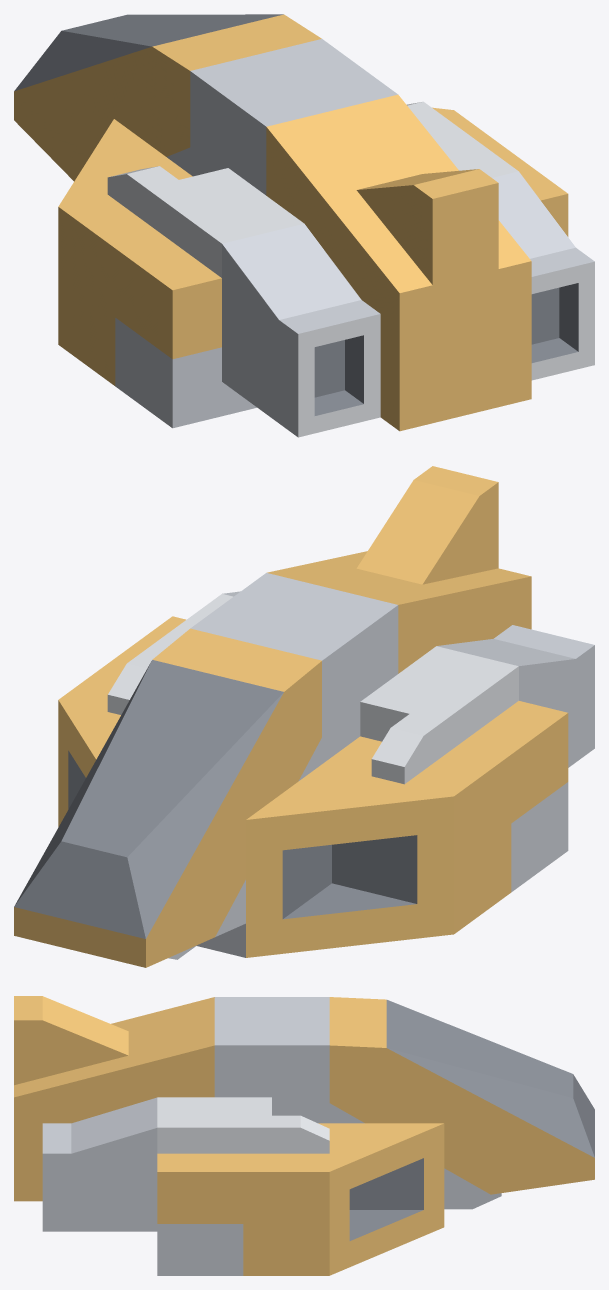
The model's file is craft_racer.glb.
The picture shows the model from 3 angles, top to bottom: view 1: azimuth 30°, elevation 25°; view 2: azimuth 150°, elevation 25°; view 3: azimuth 270°, elevation 25°; orthographic projection. The views are drawn at different scales.
Parts seen in each view (by area): view 1: craft_racer; view 2: craft_racer; view 3: craft_racer.
Part boxes in pixels (bbox=[...]): craft_racer: bbox=[14, 14, 594, 437]; craft_racer: bbox=[14, 466, 594, 967]; craft_racer: bbox=[14, 996, 594, 1275].
Size of the model in its own units: 1.2 by 0.75 by 2.03.
